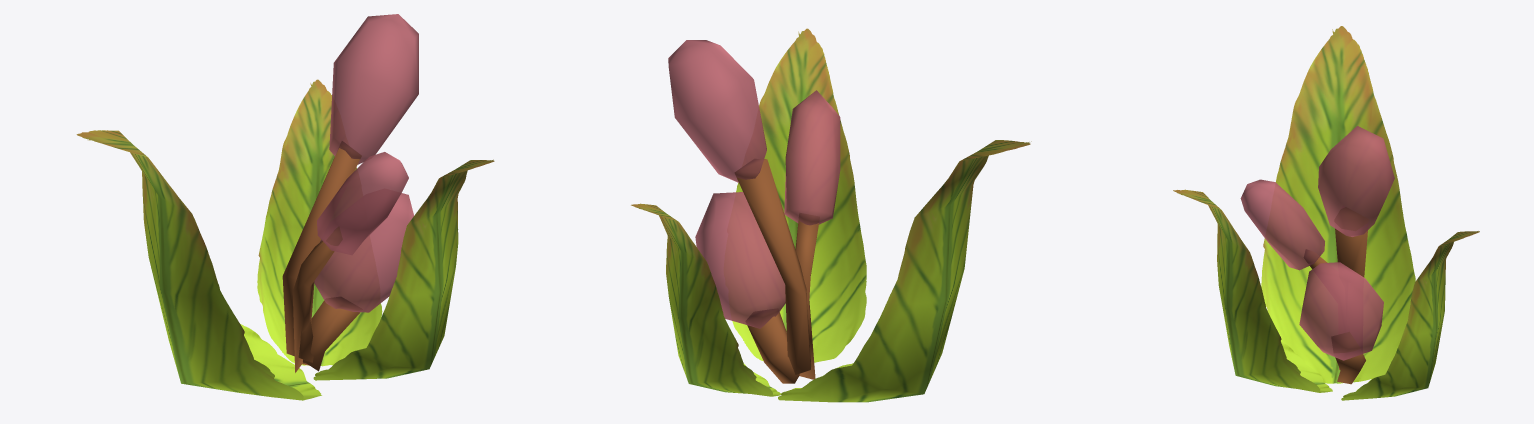
Rendered from Bulbous.fbx.
3 views of the same model, side by side, from view 1: azimuth 30°, elevation 25°; view 2: azimuth 150°, elevation 25°; view 3: azimuth 270°, elevation 25° (orthographic). The views are drawn at different scales.
Parts seen in each view (by area): view 1: leaf, leaf.001, leaf.002, bulb, bulb.001, bulb.002, stem.002, stem, stem.001; view 2: leaf, leaf.001, bulb, leaf.002, bulb.001, bulb.002, stem.002, stem.001, stem; view 3: leaf, leaf.001, bulb.001, bulb, leaf.002, bulb.002, stem.002, stem.001.
Boxes of the visible parts, bbox=[...] form: leaf: bbox=[76, 130, 321, 400]; leaf.001: bbox=[313, 159, 494, 380]; leaf.002: bbox=[257, 79, 382, 366]; bulb: bbox=[329, 14, 418, 164]; bulb.001: bbox=[314, 193, 413, 312]; bulb.002: bbox=[317, 152, 408, 255]; stem.002: bbox=[282, 141, 361, 362]; stem: bbox=[292, 227, 342, 372]; stem.001: bbox=[302, 297, 362, 371]; leaf: bbox=[778, 140, 1031, 402]; leaf.001: bbox=[732, 28, 866, 362]; bulb: bbox=[668, 40, 766, 182]; leaf.002: bbox=[631, 203, 780, 396]; bulb.001: bbox=[695, 192, 785, 328]; bulb.002: bbox=[784, 90, 840, 225]; stem.002: bbox=[735, 159, 811, 374]; stem.001: bbox=[746, 308, 799, 383]; stem: bbox=[795, 213, 819, 379]; leaf: bbox=[1261, 26, 1415, 383]; leaf.001: bbox=[1173, 189, 1332, 392]; bulb.001: bbox=[1299, 262, 1383, 360]; bulb: bbox=[1318, 126, 1394, 236]; leaf.002: bbox=[1341, 231, 1479, 400]; bulb.002: bbox=[1240, 179, 1324, 270]; stem.002: bbox=[1334, 207, 1368, 277]; stem.001: bbox=[1331, 332, 1365, 384].
Size of the model in its own units: 307 by 236 by 287.
